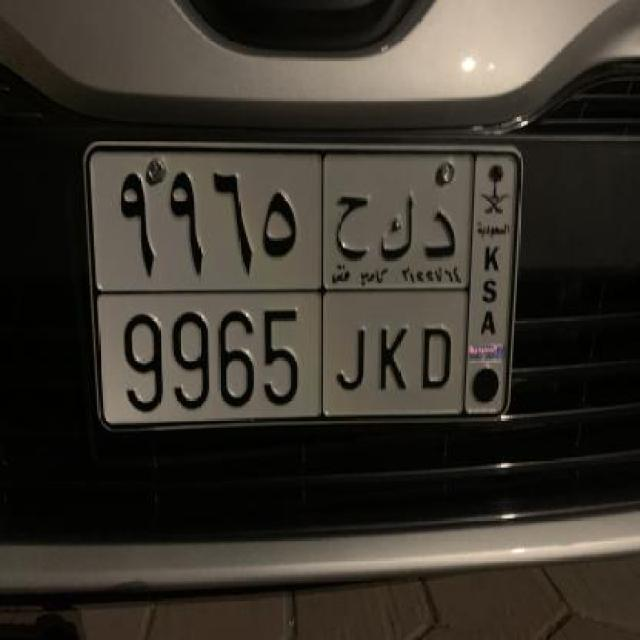license_plate: (79, 136, 526, 436)
